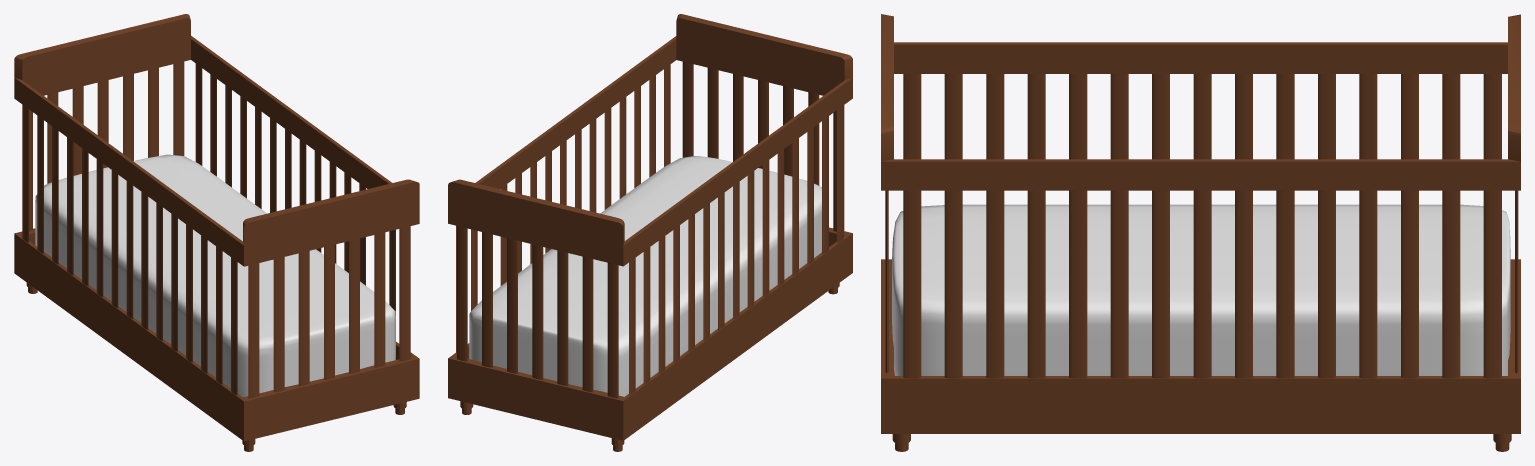
Rendered from cradle.fbx.
3 renders of one model, left to right at view 1: azimuth 30°, elevation 25°; view 2: azimuth 150°, elevation 25°; view 3: azimuth 270°, elevation 25°, orthographic. The views are drawn at different scales.
Parts seen in each view (by area): view 1: Cube, Cube.002; view 2: Cube, Cube.002; view 3: Cube, Cube.002.
Part boxes in pixels (bbox=[...]): Cube: bbox=[14, 14, 419, 451]; Cube.002: bbox=[35, 154, 395, 397]; Cube: bbox=[448, 14, 852, 451]; Cube.002: bbox=[469, 156, 821, 396]; Cube: bbox=[881, 14, 1520, 451]; Cube.002: bbox=[892, 204, 1510, 375].
Size of the model in its own units: 87.14 by 111 by 198.
